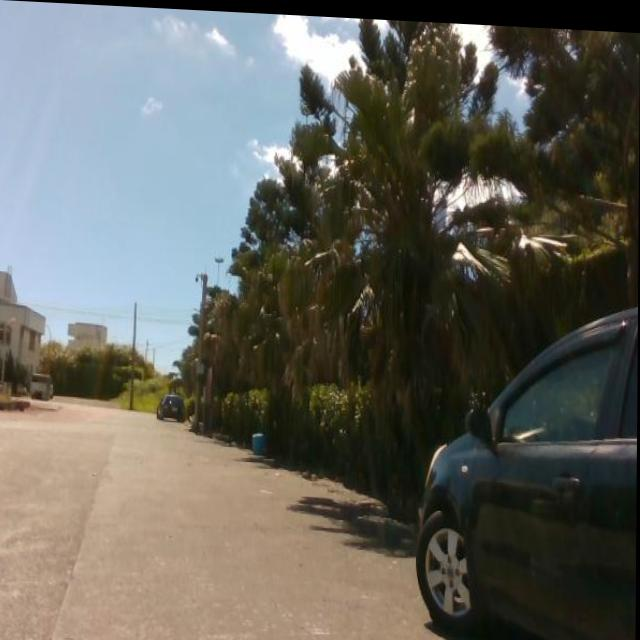pollute: (248, 429, 270, 452)
